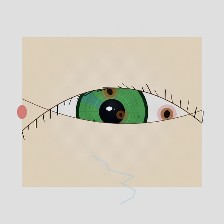foreign_body_visible: (147, 98, 187, 130)
